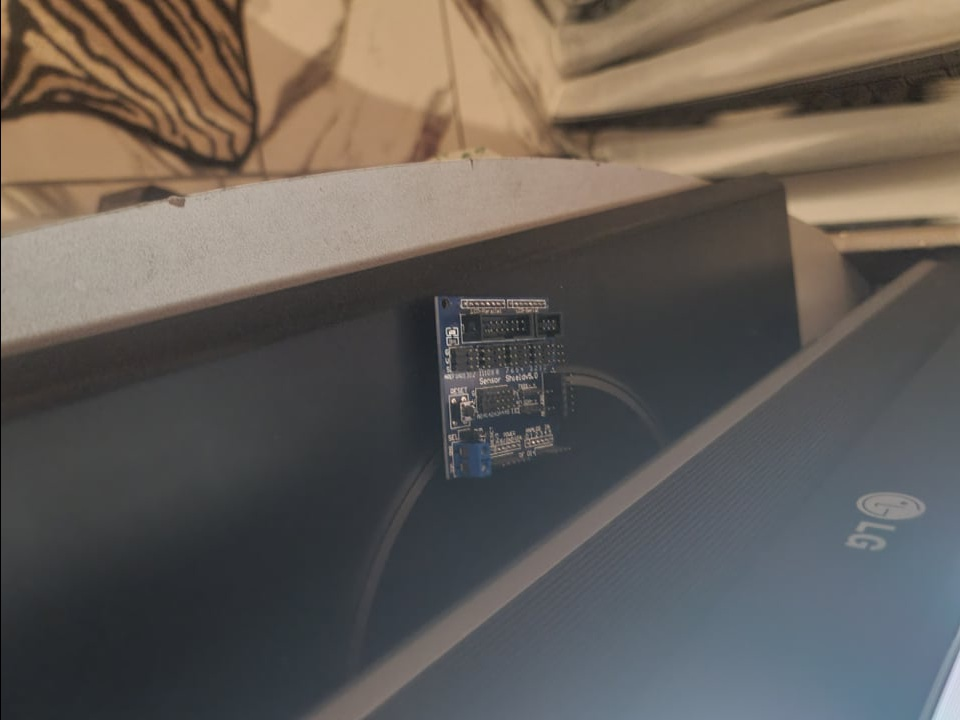5V EXPANSION: (434, 290, 576, 480)
